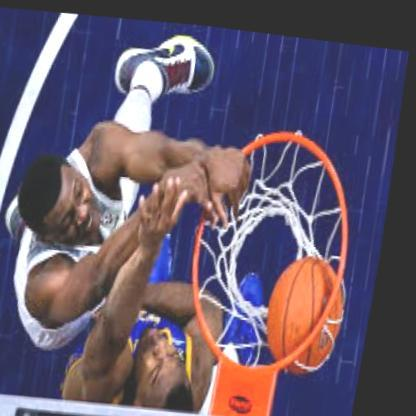basketball: (270, 245, 363, 368)
rim: (175, 114, 378, 416)
